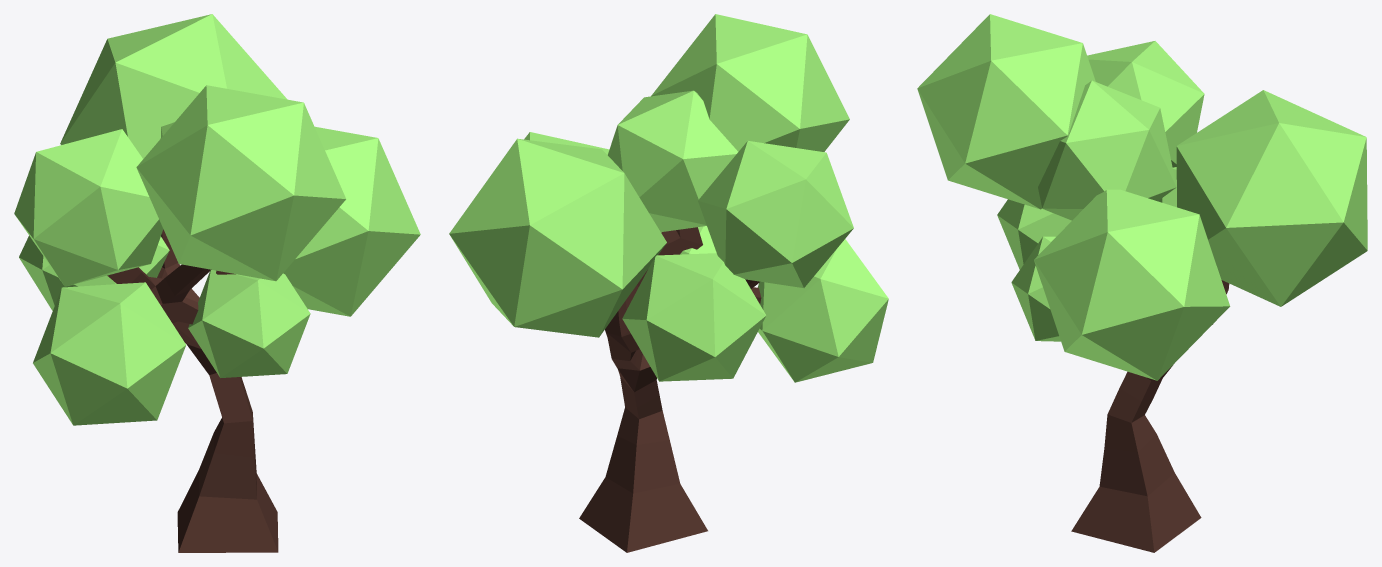
Rendered from Tree1.fbx.
3 views of the same model, side by side, from view 1: azimuth 30°, elevation 25°; view 2: azimuth 150°, elevation 25°; view 3: azimuth 270°, elevation 25° (orthographic). The views are drawn at different scales.
Parts seen in each view (by area): view 1: Cube.003; view 2: Cube.003; view 3: Cube.003.
Part boxes in pixels (x1,y1,x2,y2): Cube.003: (14,14,420,552); Cube.003: (449,14,888,552); Cube.003: (917,14,1367,552).
Size of the model in its own units: 472 by 574 by 503.
